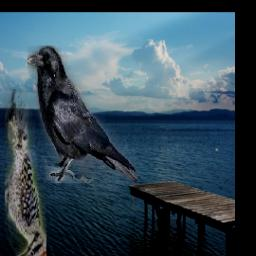Crow: (27, 46, 137, 183)
Woodpecker: (5, 90, 46, 256)
